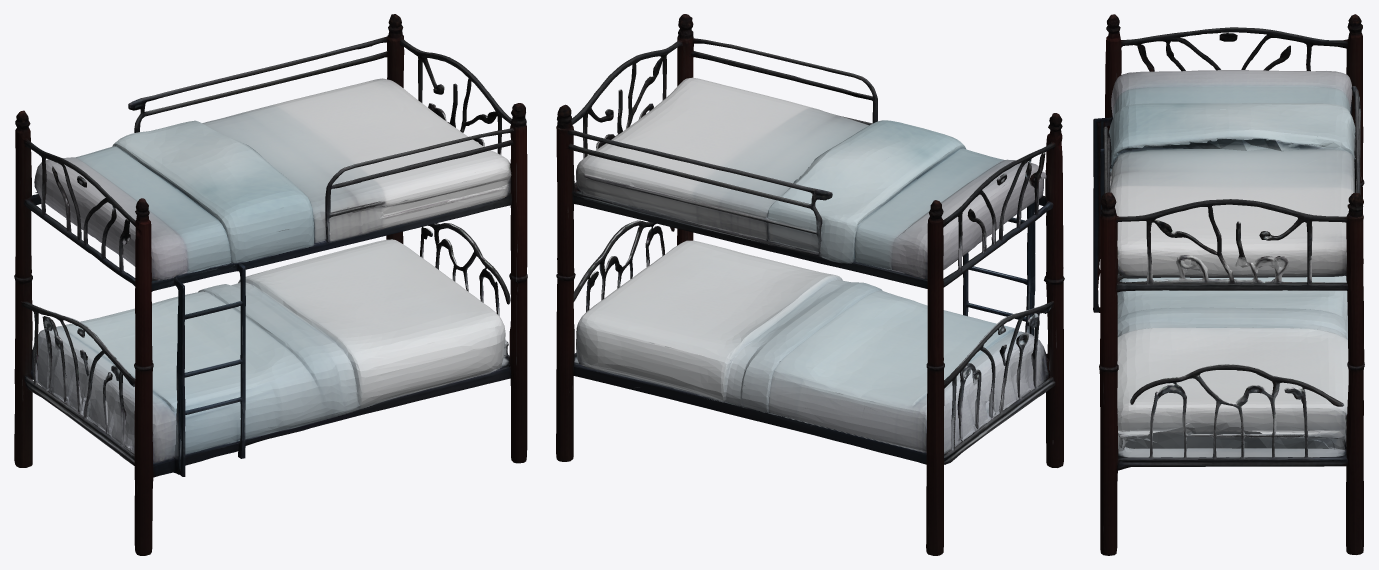
Rendered from mwdb01_wooden_steel_double_bunk.glb.
3 renders of one model, left to right at view 1: azimuth 30°, elevation 25°; view 2: azimuth 150°, elevation 25°; view 3: azimuth 270°, elevation 25°, orthographic.
Parts seen in each view (by area): view 1: world; view 2: world; view 3: world.
Part boxes in pixels (<box>): world: <box>14,14,527,555</box>; world: <box>556,14,1064,555</box>; world: <box>1093,14,1364,555</box>.
Size of the model in its own units: 0.9988 by 0.8836 by 0.5994.
1 material, 1 textured.
